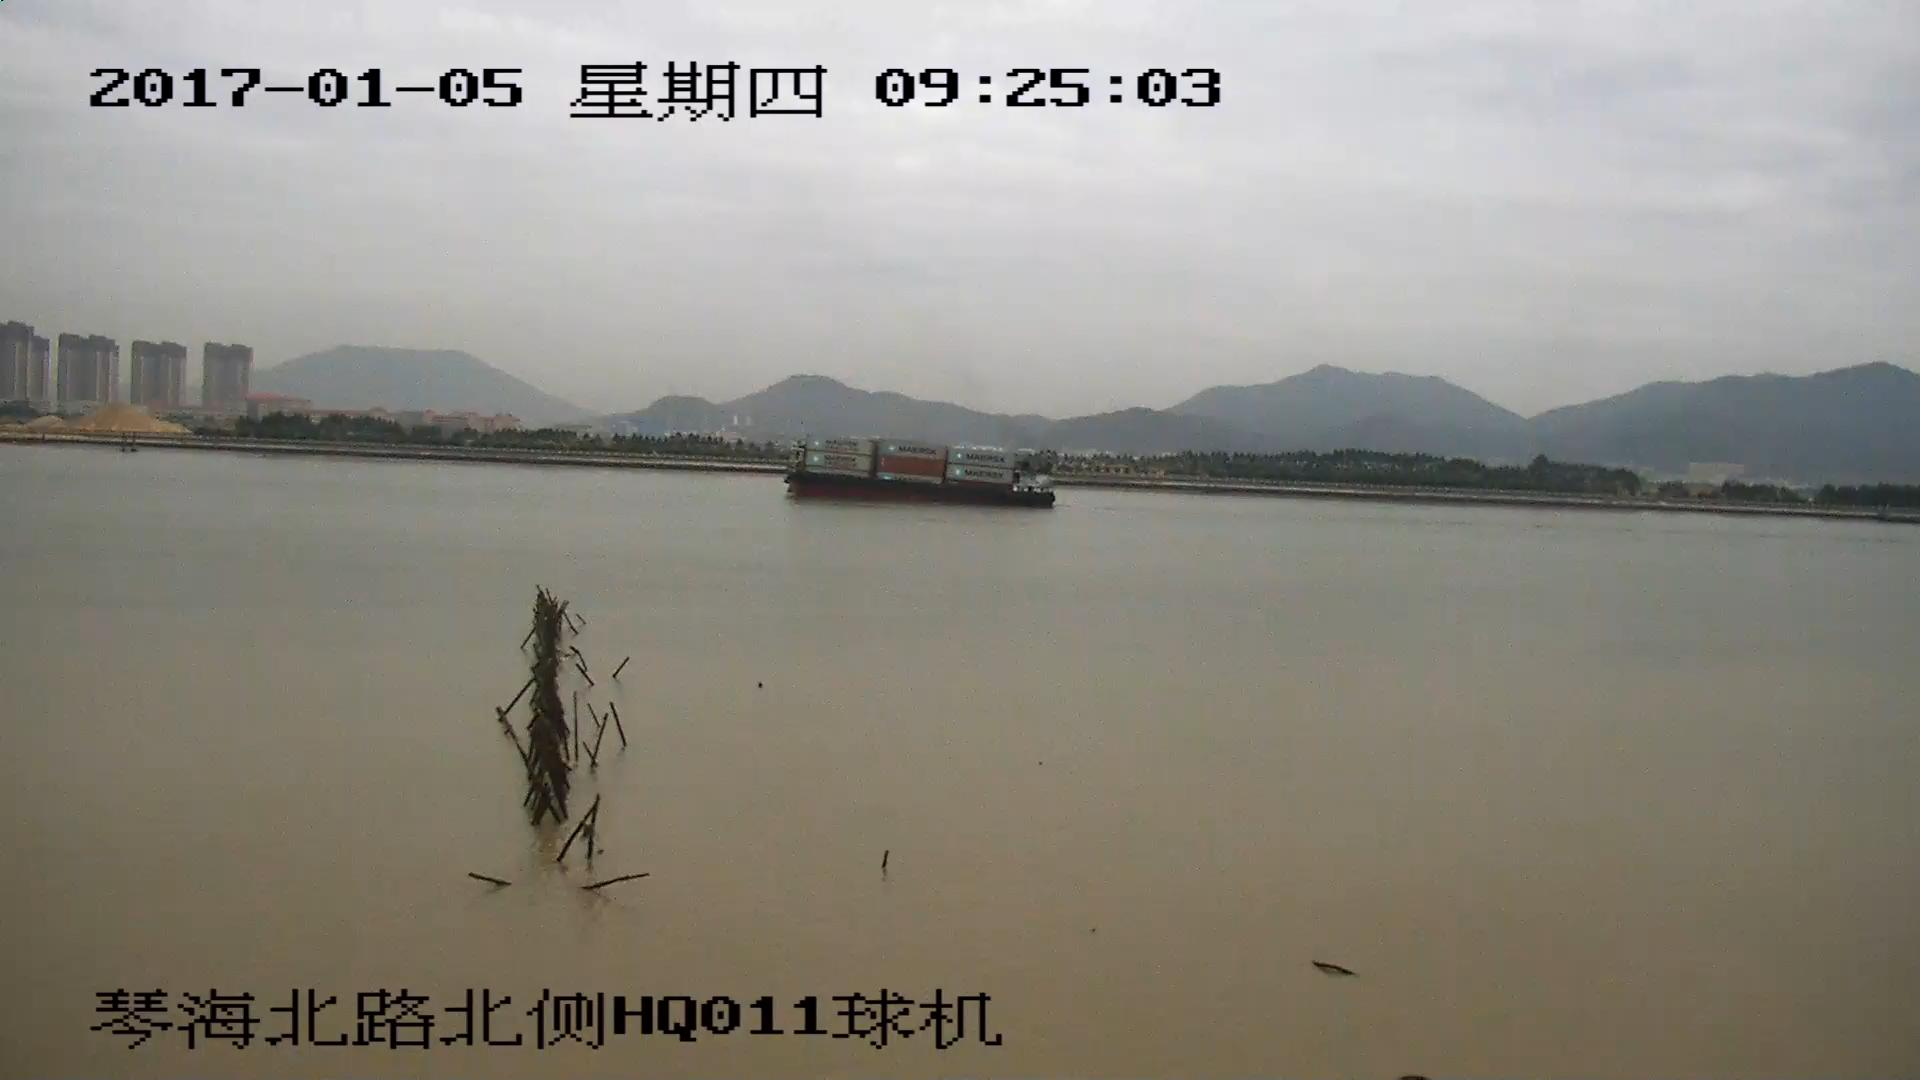container ship: (785, 436, 1053, 503)
